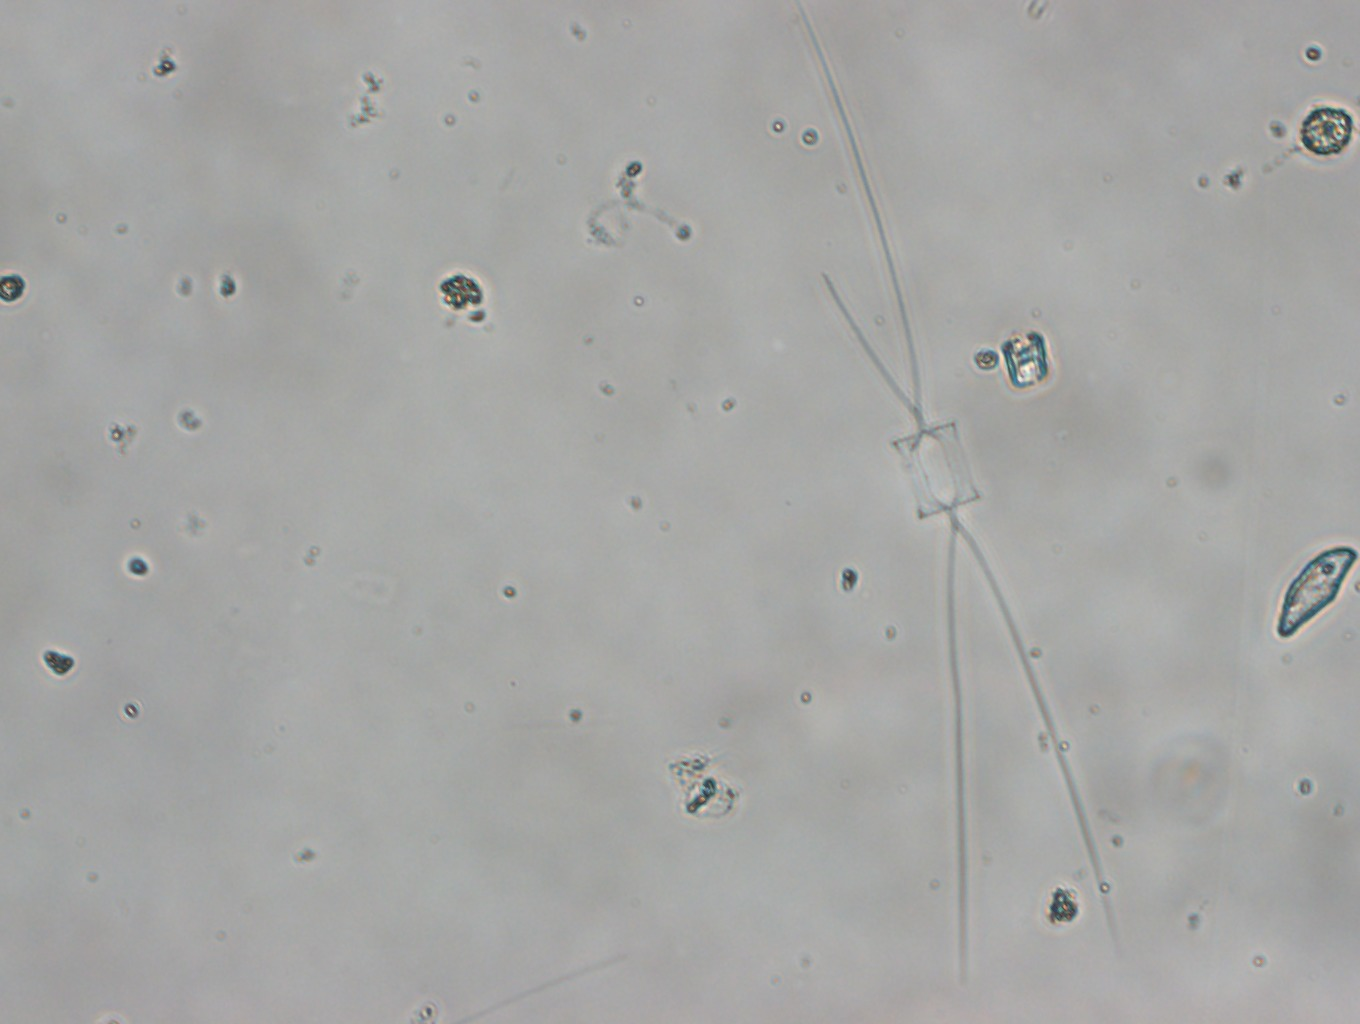chaetoceros: (807, 3, 1131, 959)
